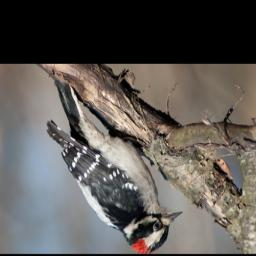Woodpecker: (46, 75, 187, 253)
